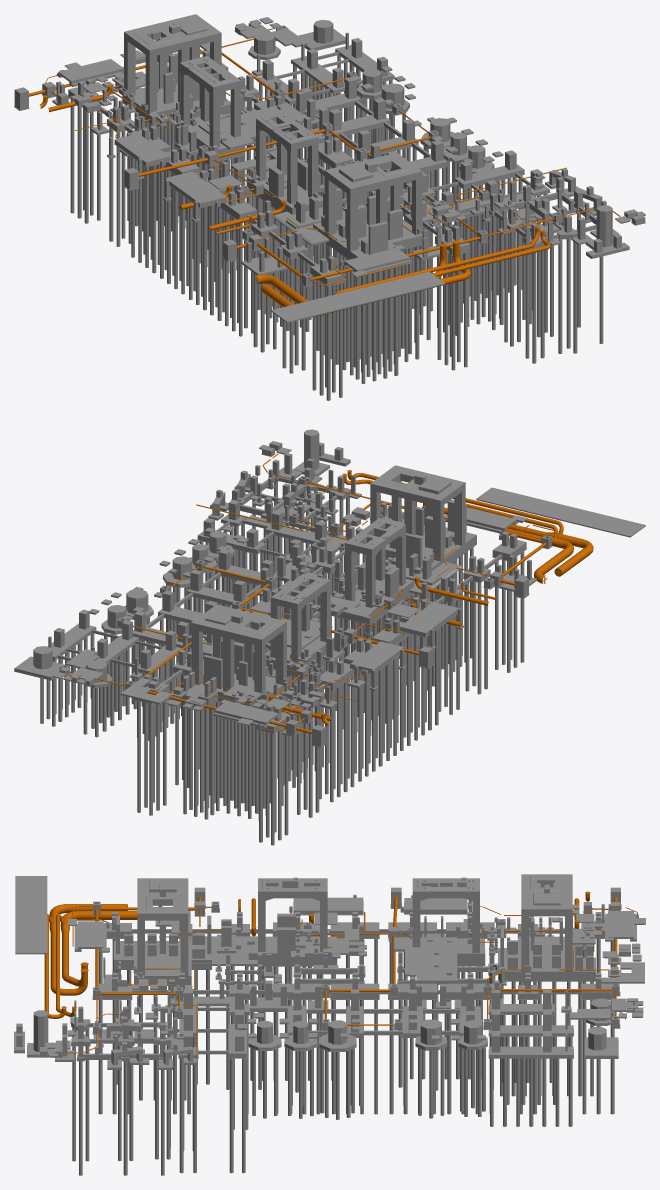
3 views of the same model, one above another, from view 1: azimuth 30°, elevation 25°; view 2: azimuth 150°, elevation 25°; view 3: azimuth 270°, elevation 25° (orthographic). The views are drawn at different scales.
Bounding box in the file's own units: 67.72 × 33.74 × 98.63.
